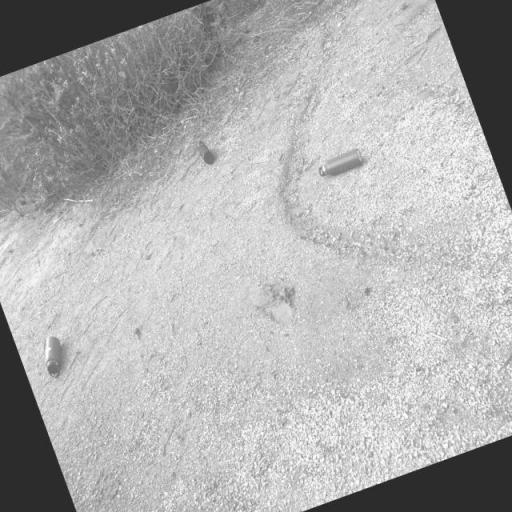bottle: (36, 332, 74, 382), (316, 146, 367, 181), (192, 133, 220, 173)
mallet: (317, 0, 357, 9)
